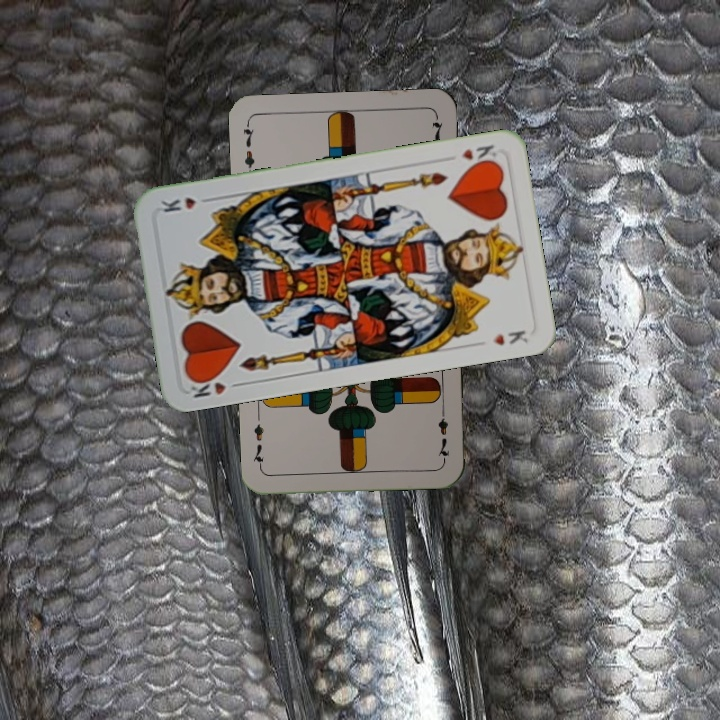E7: (433, 403, 452, 462), (239, 120, 257, 179)
HK: (184, 371, 245, 401), (457, 140, 500, 169)
